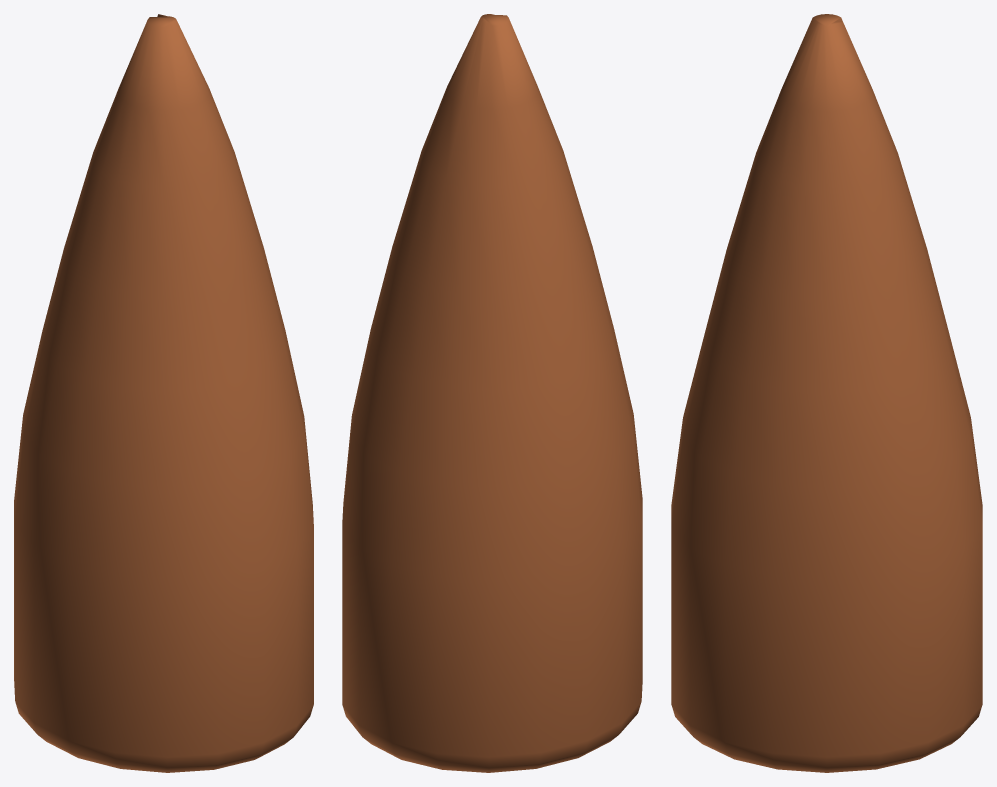
Rendered from AmmoPlayer.fbx.
3 views of the same model, side by side, from view 1: azimuth 30°, elevation 25°; view 2: azimuth 150°, elevation 25°; view 3: azimuth 270°, elevation 25° (orthographic).
Visible parts, largest first — view 1: Pulya 223 remingtonUV_lp; view 2: Pulya 223 remingtonUV_lp; view 3: Pulya 223 remingtonUV_lp.
Boxes of the visible parts, x1,y1,x2,y2 form: Pulya 223 remingtonUV_lp: [14, 14, 313, 772]; Pulya 223 remingtonUV_lp: [342, 14, 642, 772]; Pulya 223 remingtonUV_lp: [671, 14, 982, 772].
Size of the model in its own units: 10.27 by 26.33 by 10.64.
